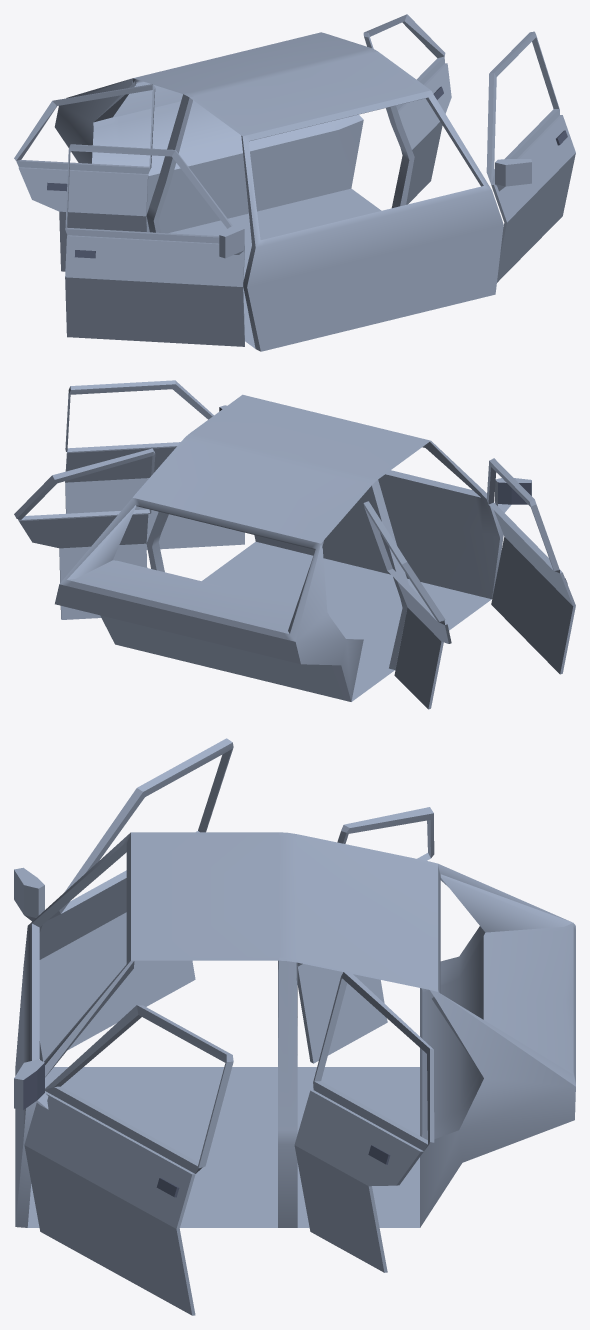
File: Doors1.fbx
The picture shows the model from 3 angles, top to bottom: view 1: azimuth 30°, elevation 25°; view 2: azimuth 150°, elevation 25°; view 3: azimuth 270°, elevation 25°; orthographic projection. The views are drawn at different scales.
Parts seen in each view (by area): view 1: Doors1.001; view 2: Doors1.001; view 3: Doors1.001.
Boxes of the visible parts, x1=… form: Doors1.001: x1=14, y1=14, x2=575, y2=351; Doors1.001: x1=14, y1=380, x2=575, y2=709; Doors1.001: x1=14, y1=738, x2=575, y2=1315.
Size of the model in its own units: 4.76 by 1.6 by 3.25.
